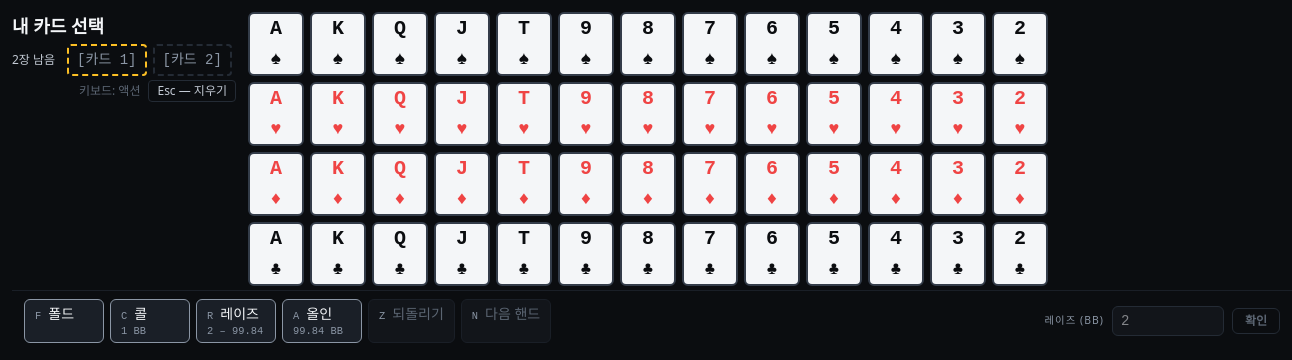
Test: CardPalette — hero hole cards › Z after a submitted pair removes it and re-opens the palette
Click the button with test id "palette-As" at (276, 44), box [248,12,304,76]
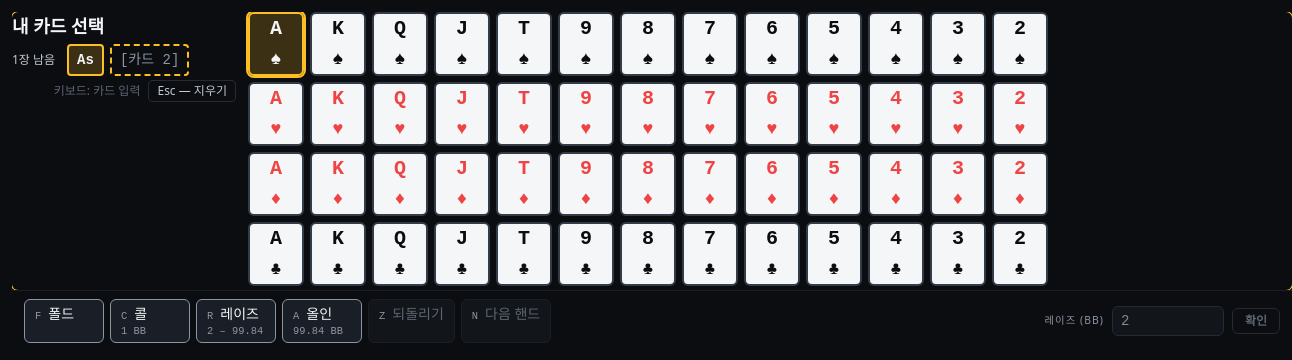
Click the button "K ♦" at (338, 184), box [310,152,366,216]
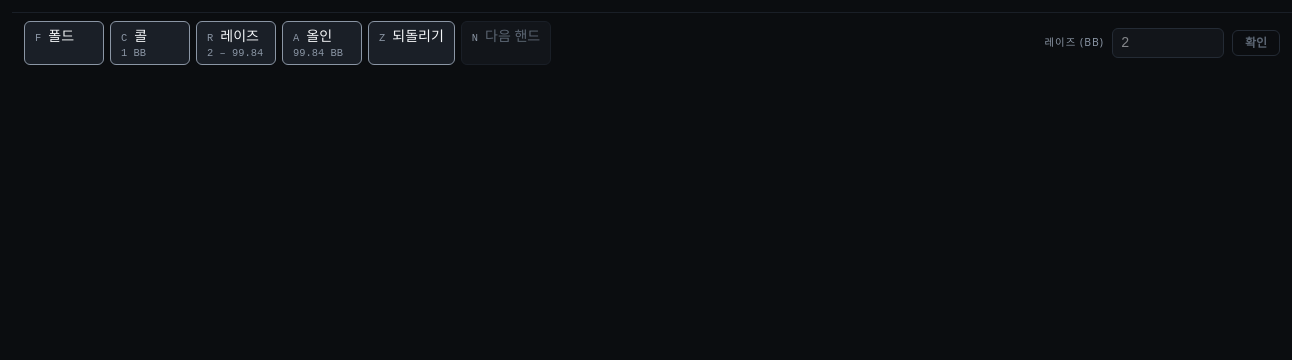
Press z
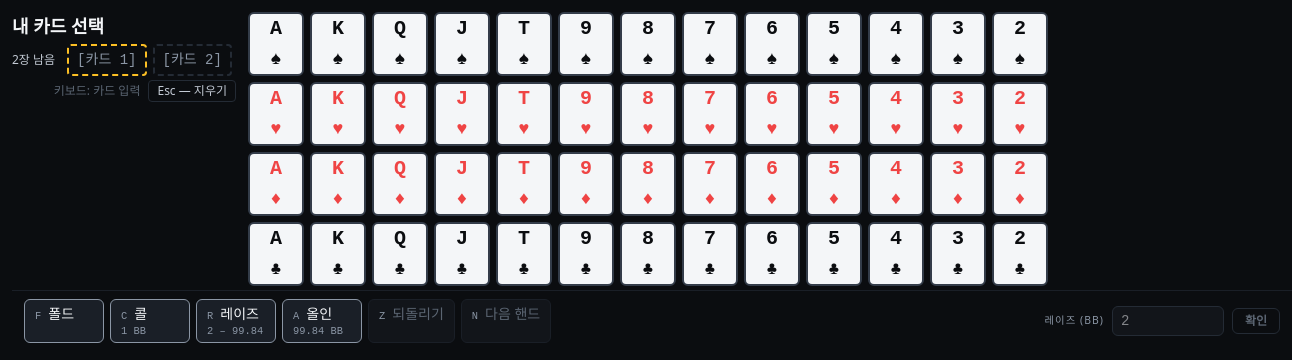
Check: the button with test id "palette-As" is enabled, box [248,12,304,76]
